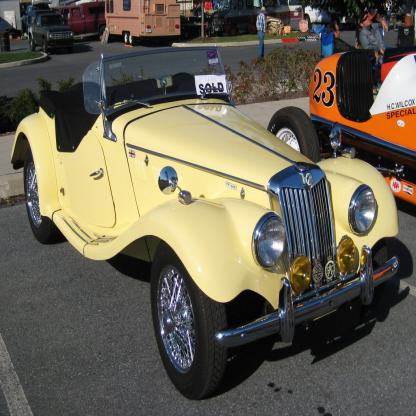Car: (13, 52, 402, 390), (267, 48, 416, 206), (28, 9, 75, 53), (60, 1, 108, 39)
